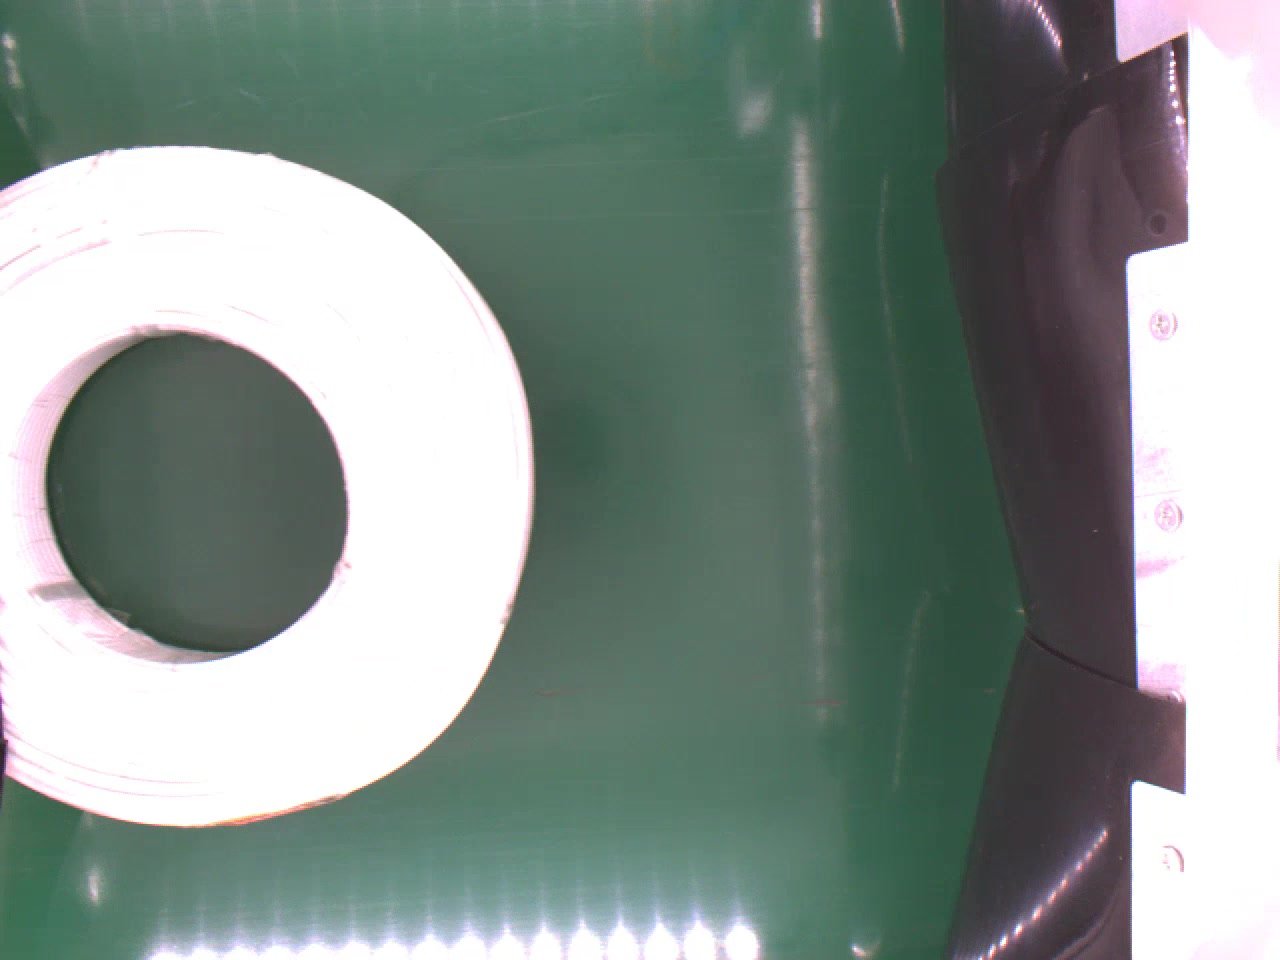white: (0, 139, 534, 833)
